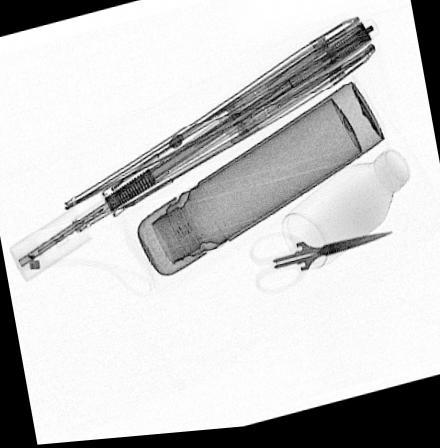Scissors: (246, 234, 394, 301)
